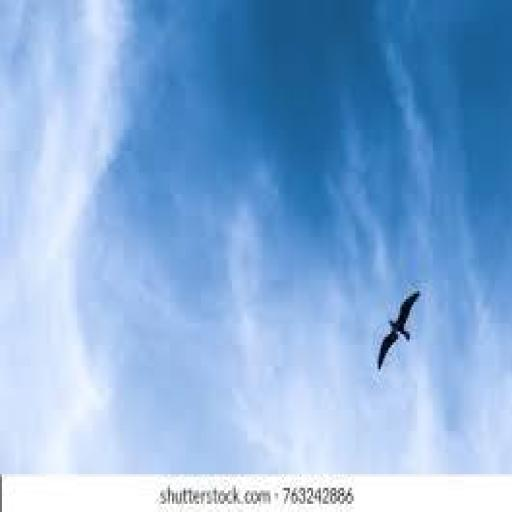birds: (376, 287, 422, 371)
